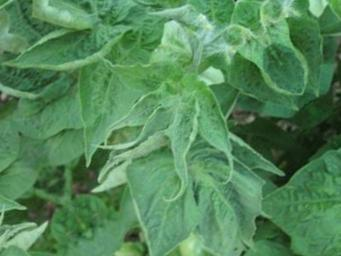Tomato leaf mosaic virus: (40, 30, 186, 170), (87, 134, 239, 256), (127, 92, 241, 205), (168, 74, 261, 184)
